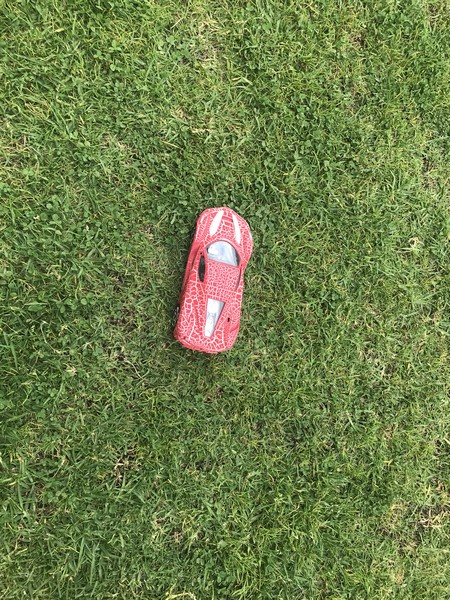RC: (170, 205, 255, 355)
